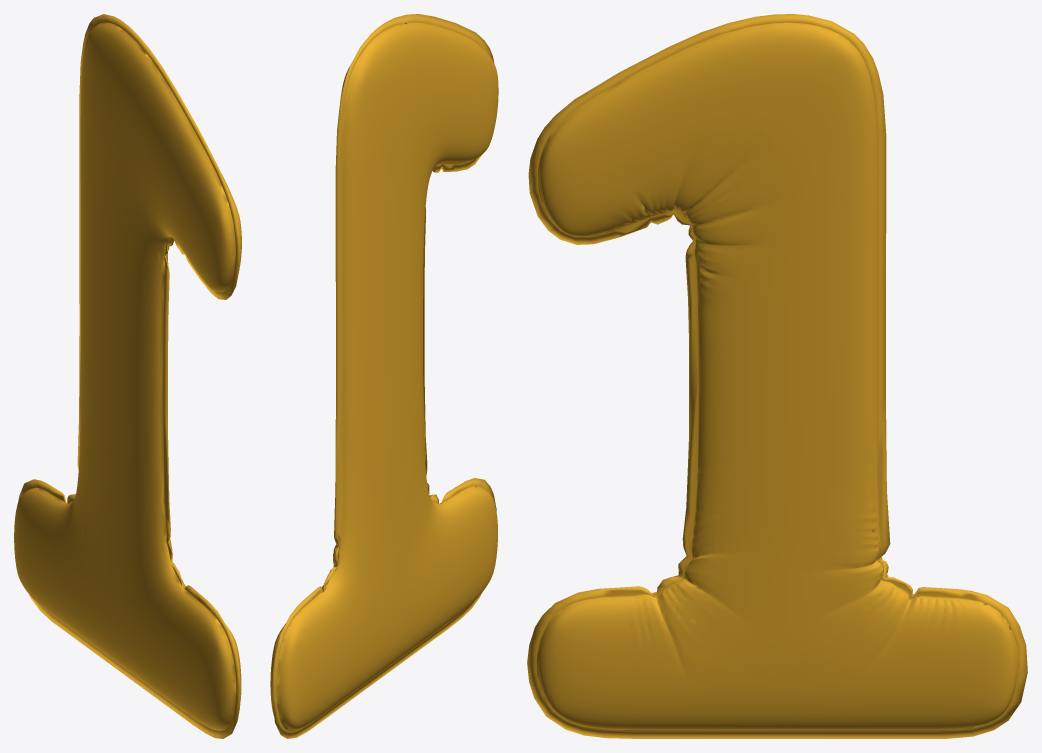
The model's file is zahlen-gold-1-v1-exp2.glb.
3 views of the same model, side by side, from view 1: azimuth 30°, elevation 25°; view 2: azimuth 150°, elevation 25°; view 3: azimuth 270°, elevation 25° (orthographic). The views are drawn at different scales.
Visible parts, largest first — view 1: banana; view 2: banana; view 3: banana.
Part boxes in pixels (x1,y1,x2,y2): banana: (14, 14, 241, 738); banana: (270, 14, 498, 738); banana: (527, 14, 1027, 738).
Bounding box in the file's own units: 0.2242 × 4.7 × 2.94.
